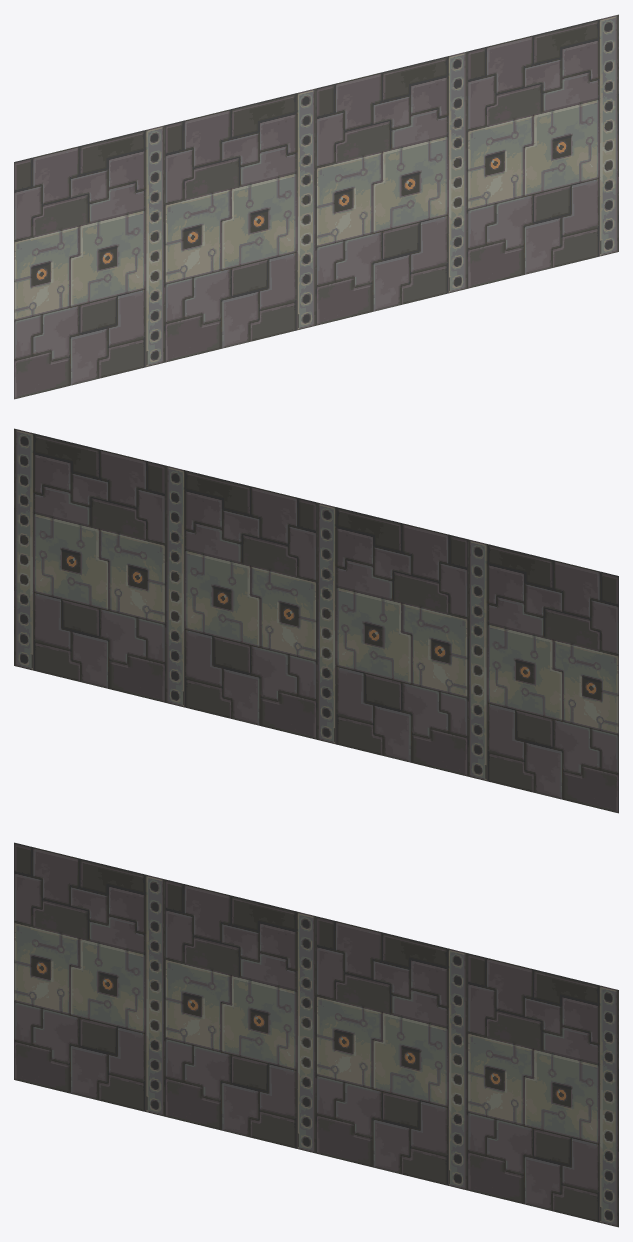
File: Wall1-4.fbx
The picture shows the model from 3 angles, top to bottom: view 1: azimuth 30°, elevation 25°; view 2: azimuth 150°, elevation 25°; view 3: azimuth 330°, elevation 25°; orthographic projection.
Visible parts, largest first — view 1: Wall1-4; view 2: Wall1-4; view 3: Wall1-4.
Boxes of the visible parts, <box> form: Wall1-4: <box>14,14,618,399</box>; Wall1-4: <box>14,428,618,813</box>; Wall1-4: <box>14,842,618,1227</box>.
Bounding box in the file's own units: 16 × 6 × 8.9e-07.
1 material, 1 textured.
